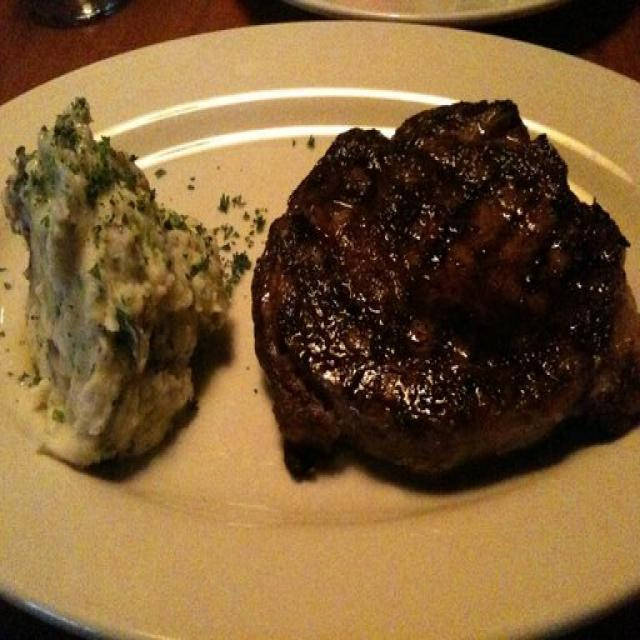Steak: (245, 113, 640, 541)
